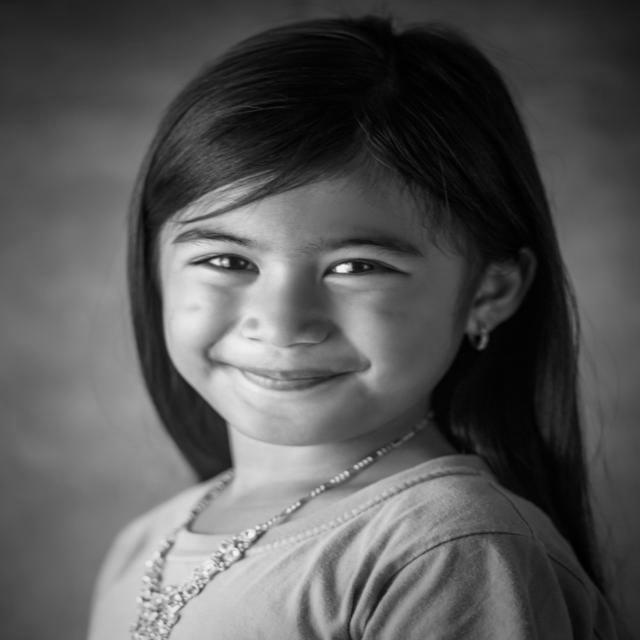Happiness: (152, 172, 470, 453)
